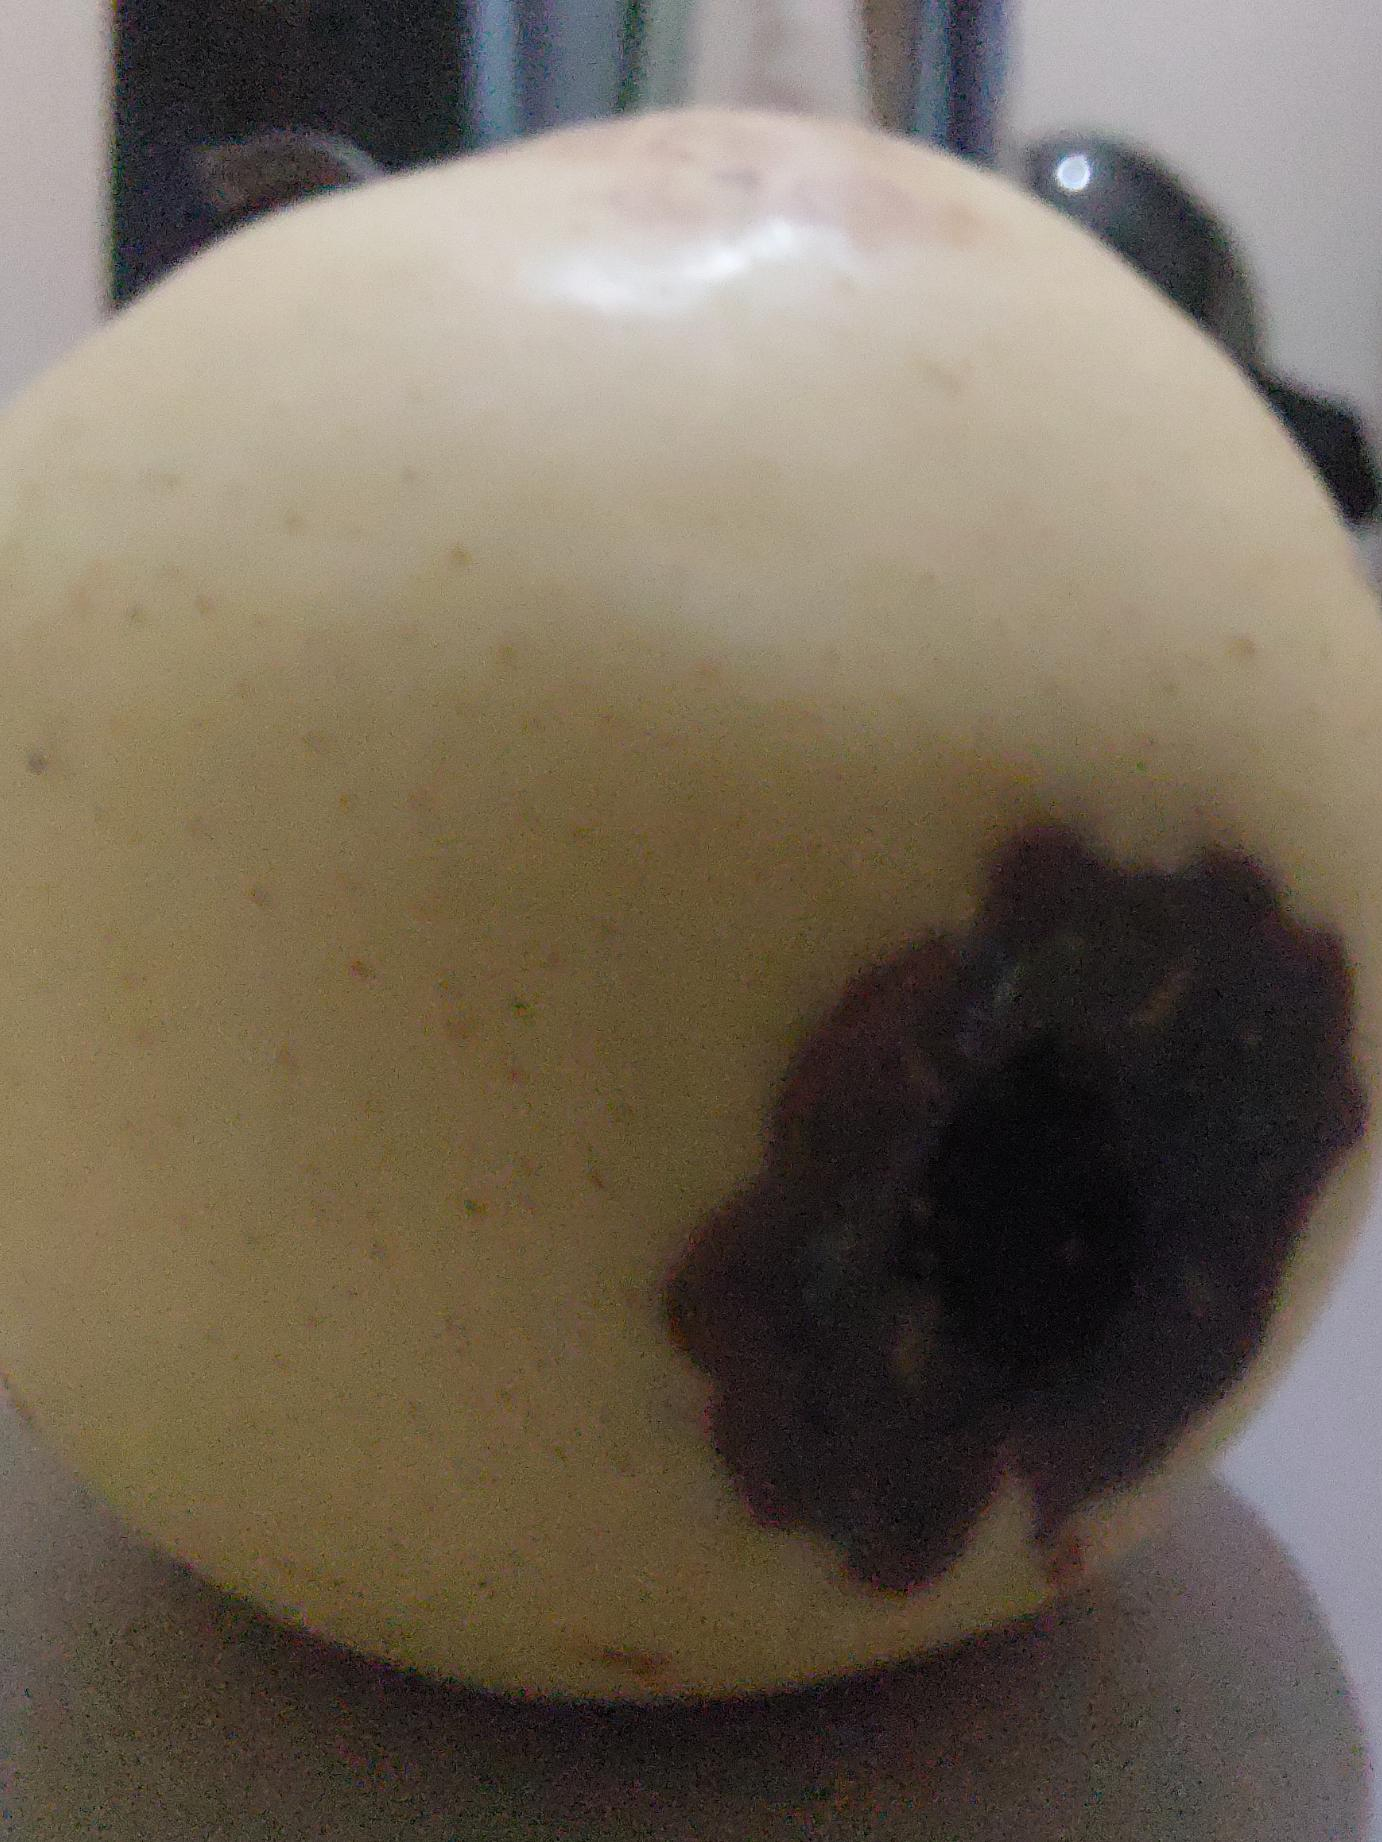Bad Pear: (0, 105, 1382, 1748)
